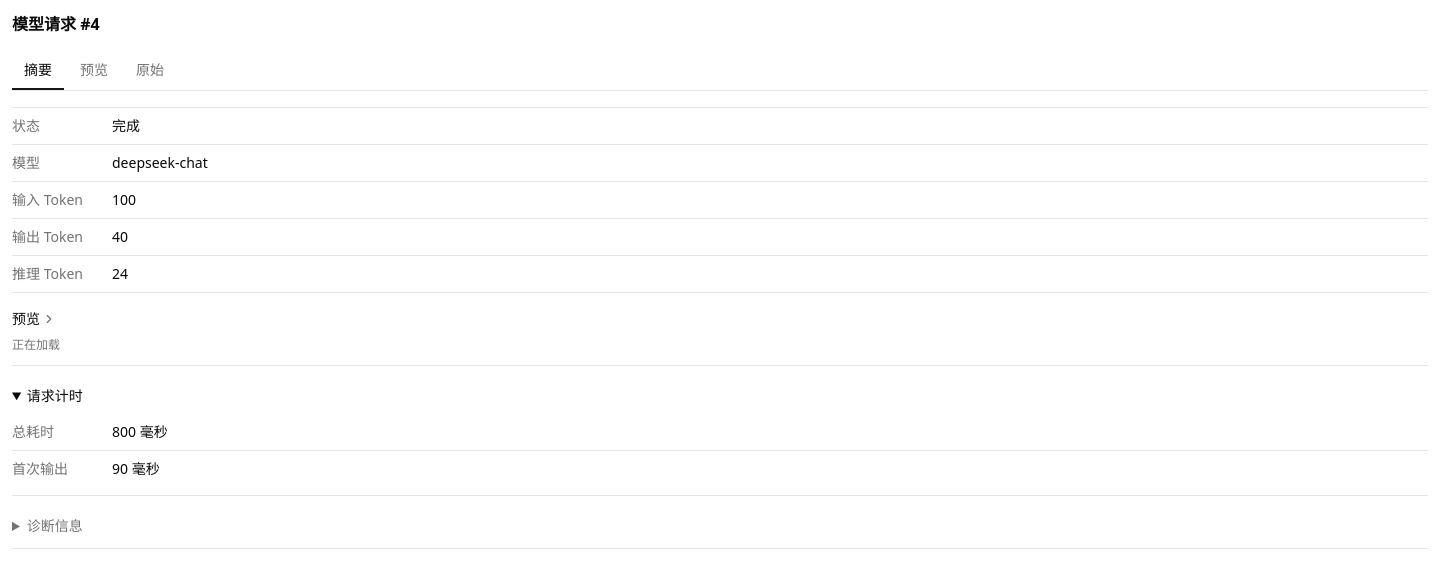
Test: TrajectoryNodeDetailPanel › 还没有工具结果的轮次不显示工具上下文
This screenshot has width=1440, height=566.
Click the tab "预览": [94, 71] box top-left (68, 52), bottom-right (120, 90)
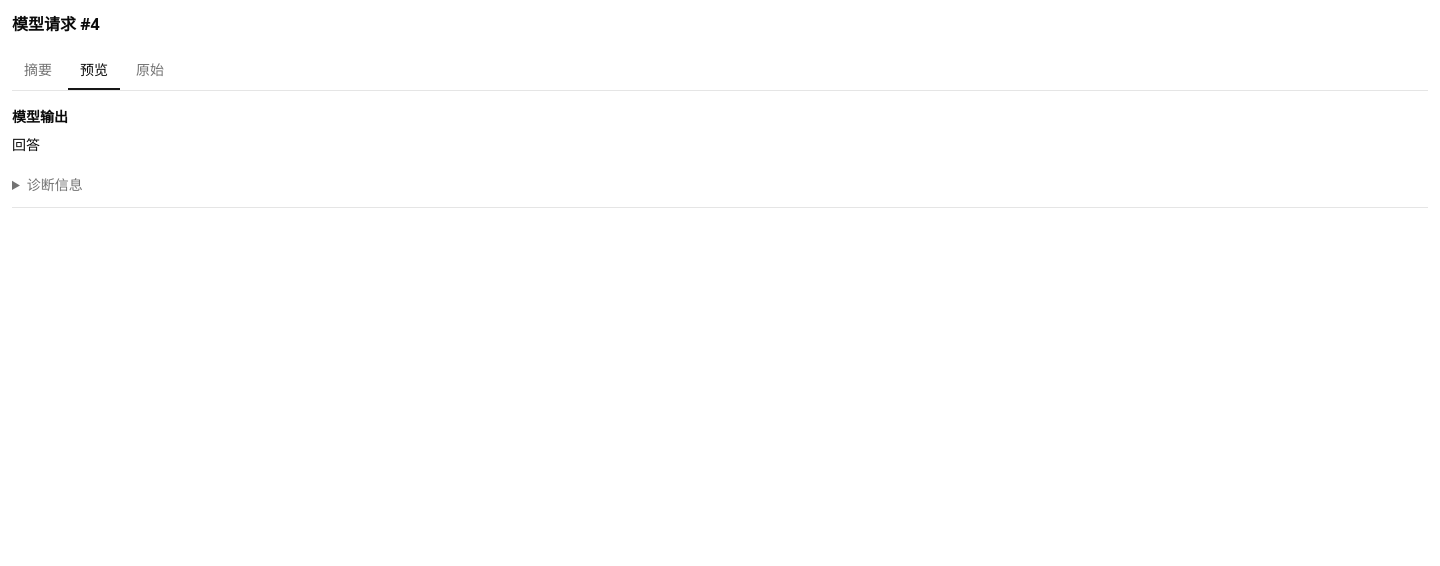
Expected: the heading "模型输出" is shown, top-left (12, 107), bottom-right (68, 126)
